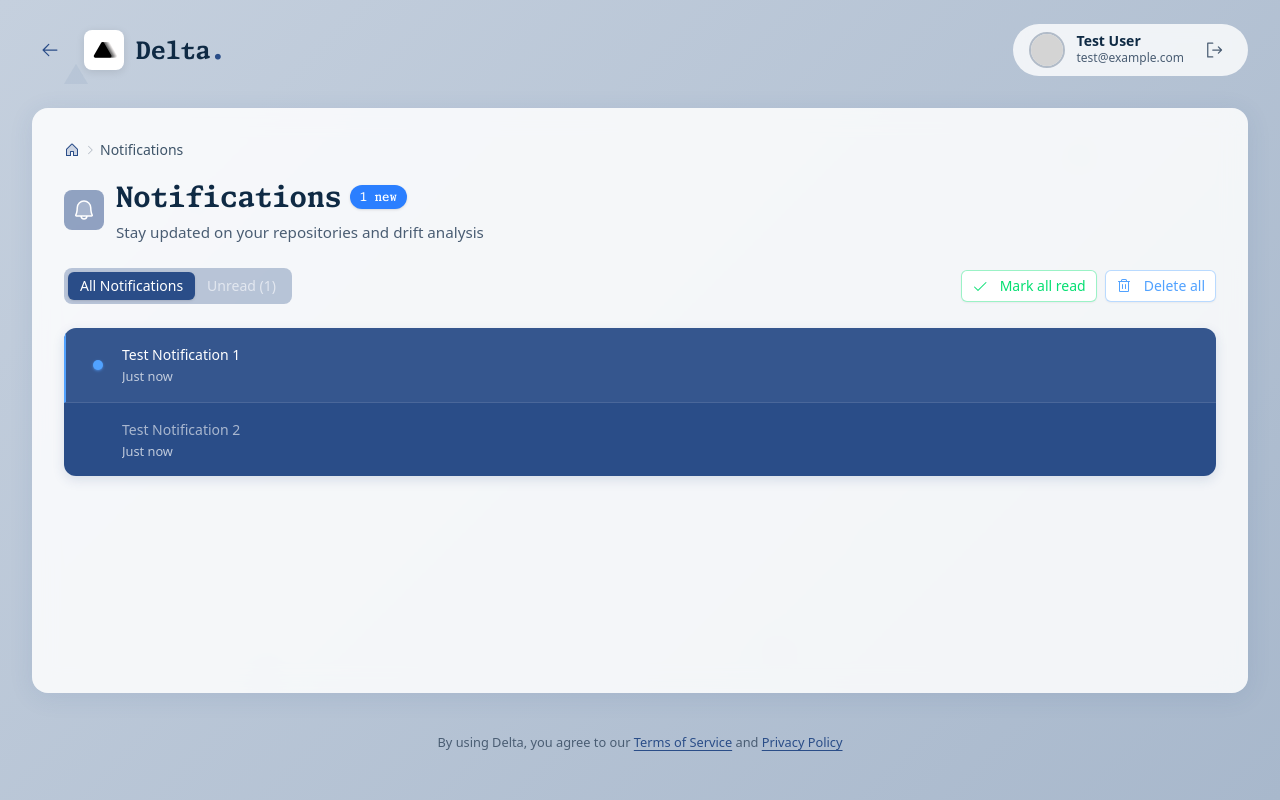
Test: Notifications Page › filters unread notifications
This screenshot has width=1280, height=800.
Click the tab "Unread (1)".
click(242, 286)  # box [195,272,288,300]
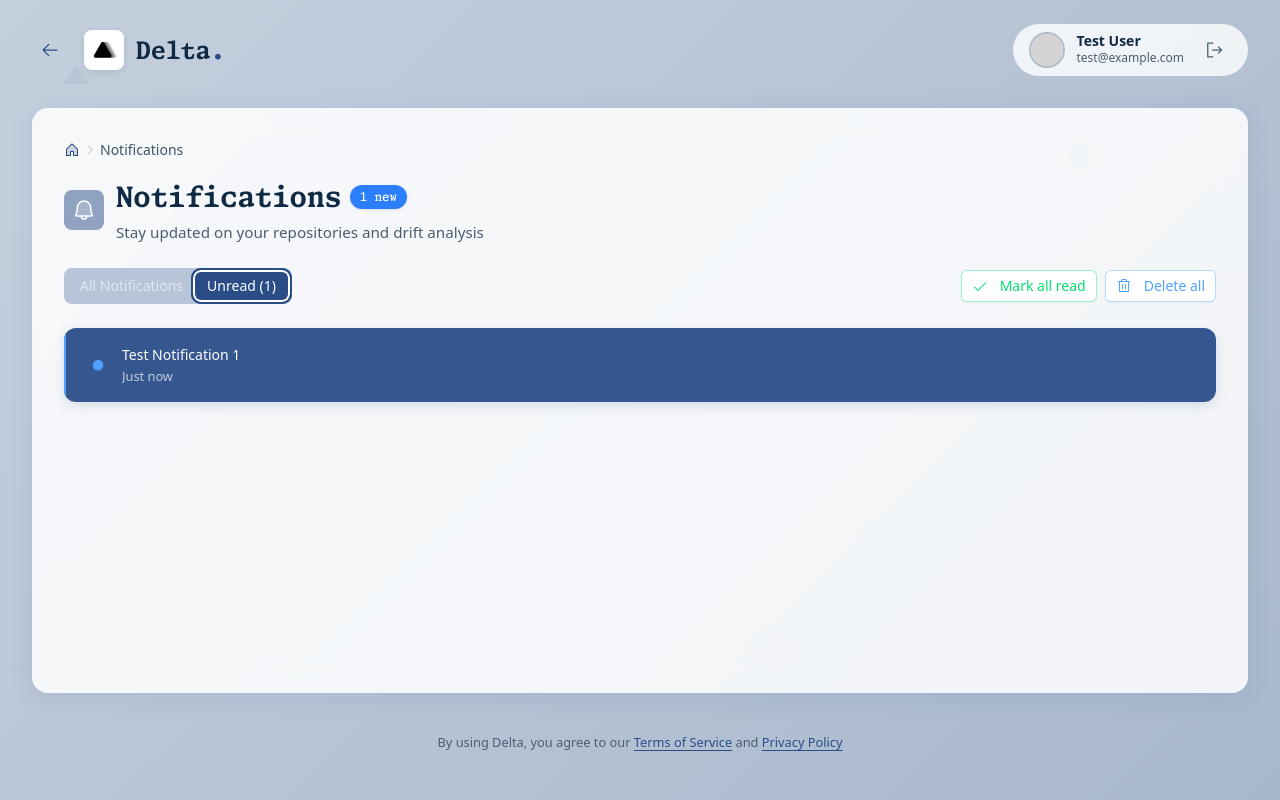
Check: the text "Test Notification 1" is shown, box [122,345,240,364]
Check: the text "Test Notification 2" is gone
